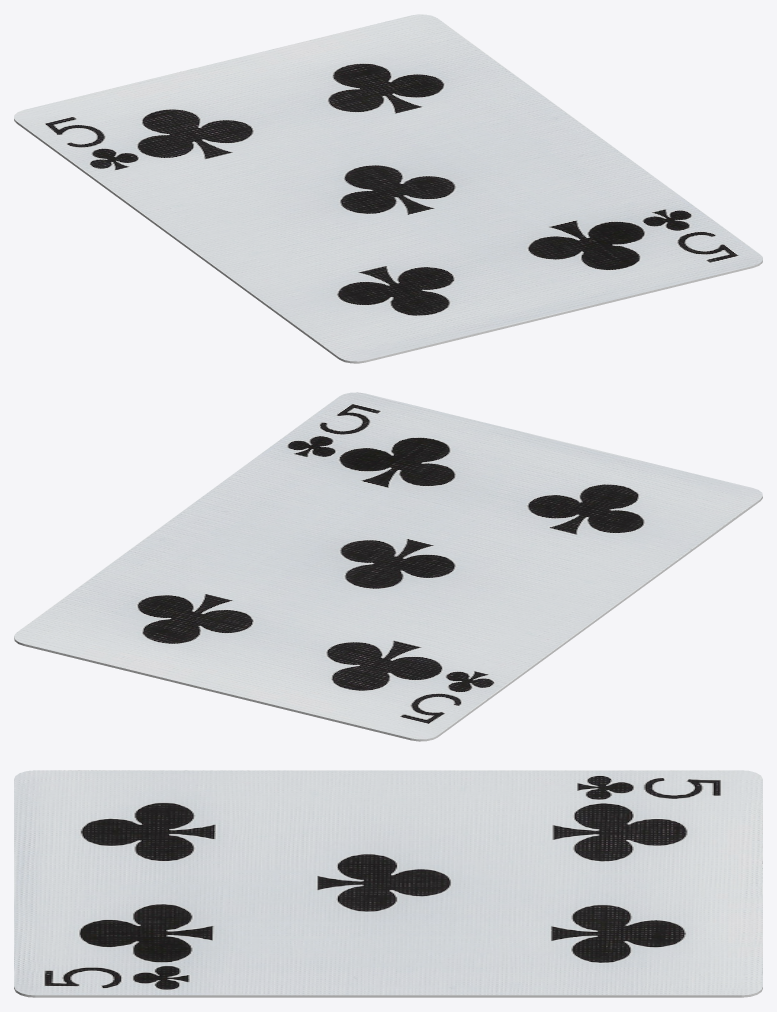
File: clubs_5.fbx
The picture shows the model from 3 angles, top to bottom: view 1: azimuth 30°, elevation 25°; view 2: azimuth 150°, elevation 25°; view 3: azimuth 270°, elevation 25°; orthographic projection. The views are drawn at different scales.
Parts seen in each view (by area): view 1: Clubs_5_2; view 2: Clubs_5_2; view 3: Clubs_5_2.
Part boxes in pixels (left/top/right/bottom): Clubs_5_2: left=14, top=14, right=762, bottom=363; Clubs_5_2: left=14, top=392, right=762, bottom=741; Clubs_5_2: left=14, top=770, right=762, bottom=997.
Bounding box in the file's own units: 6.26 × 8.8 × 0.029.
3 materials, 2 textured.
